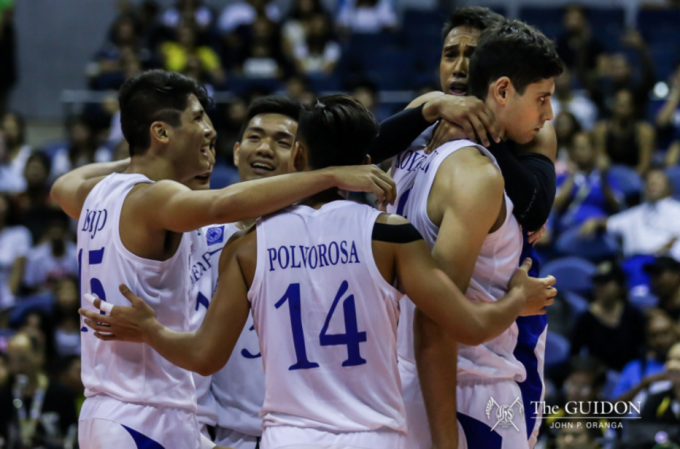player: (129, 100, 460, 449), (45, 73, 261, 449), (387, 20, 570, 449), (202, 97, 314, 449)
